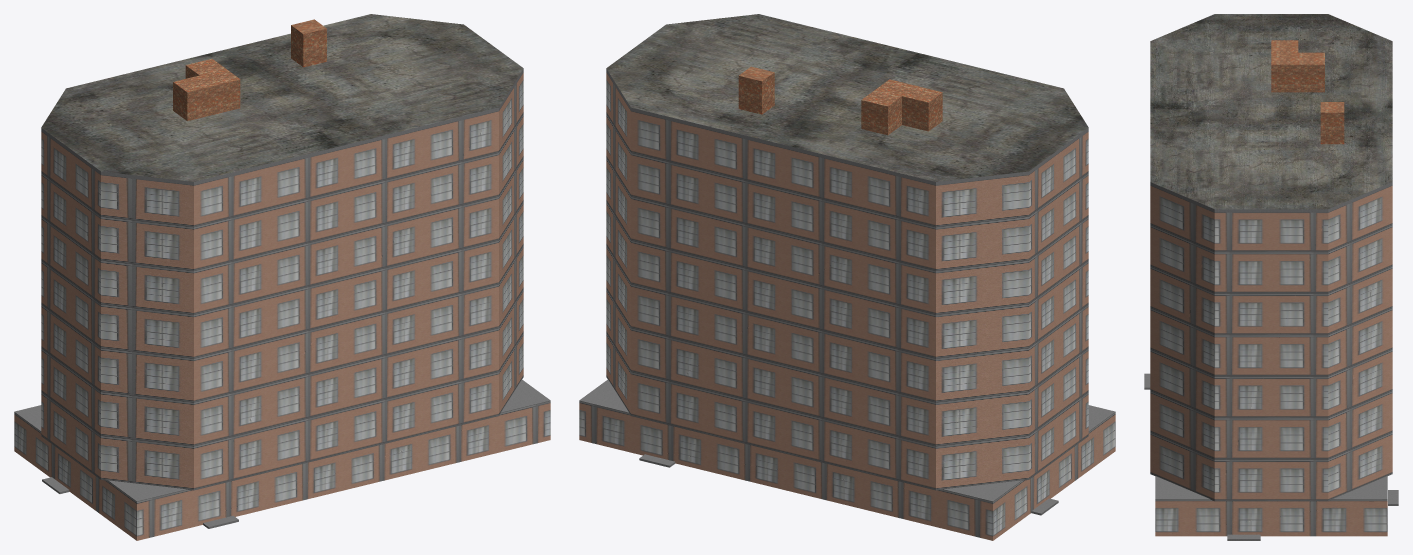
The model's file is LOD01_Building_8stores_Residential.obj.
3 views of the same model, side by side, from view 1: azimuth 30°, elevation 25°; view 2: azimuth 150°, elevation 25°; view 3: azimuth 270°, elevation 25° (orthographic). The views are drawn at different scales.
Parts seen in each view (by area): view 1: LOD01_Building_8stores_Residential; view 2: LOD01_Building_8stores_Residential; view 3: LOD01_Building_8stores_Residential.
Boxes of the visible parts, x1,y1,x2,y2 form: LOD01_Building_8stores_Residential: (14, 14, 550, 540); LOD01_Building_8stores_Residential: (579, 14, 1115, 540); LOD01_Building_8stores_Residential: (1144, 14, 1398, 540).
Size of the model in its own units: 11.32 by 9.49 by 6.07.
